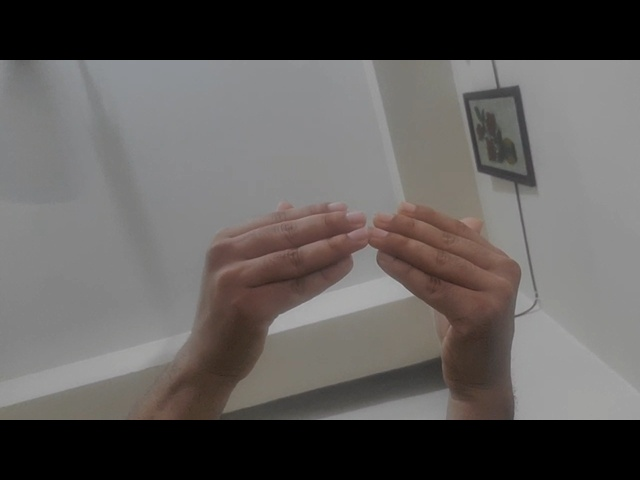Thank you: (148, 187, 527, 393)
